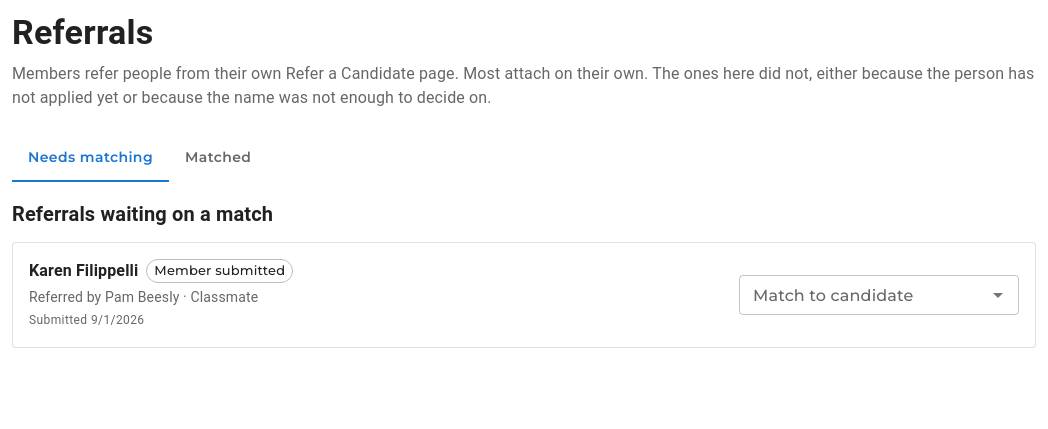
Test: AdminReferrals › matches a pending referral to the candidate an admin picks
Check: the text "Karen Filippelli" is shown, box [29, 259, 138, 283]
Type "kar" into the dropdown labelled "Match to candidate".
click(862, 295); type("kar")  # box [745, 281, 980, 309]
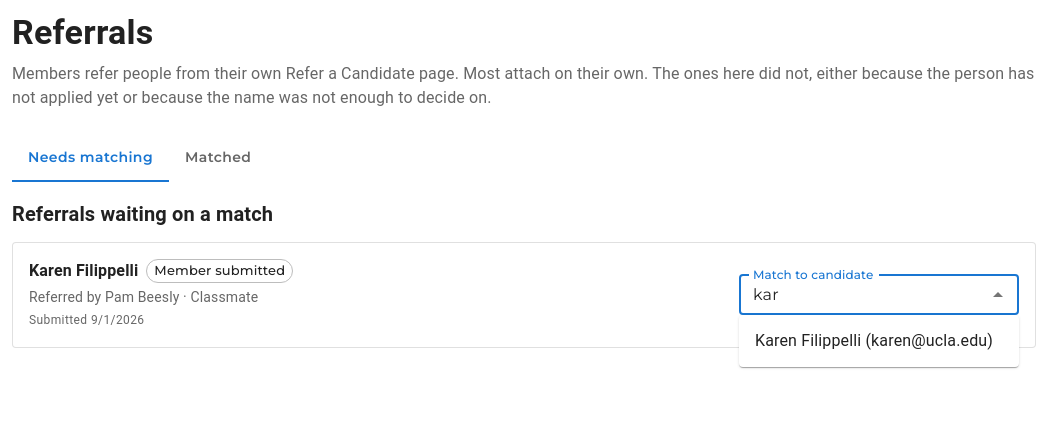
Click the option "Karen Filippelli (karen@ucla.edu)".
click(874, 340)  # box [755, 331, 993, 350]
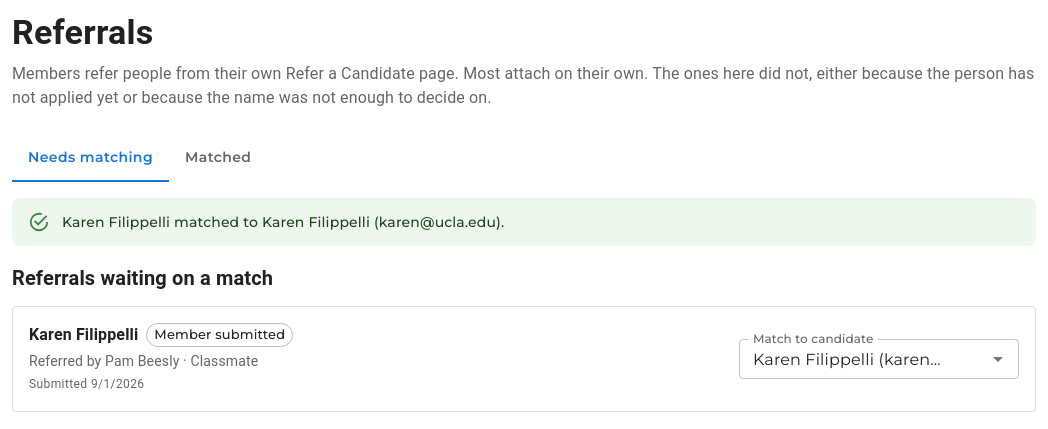
Check: the text "matched to" is shown, box [62, 213, 504, 231]
